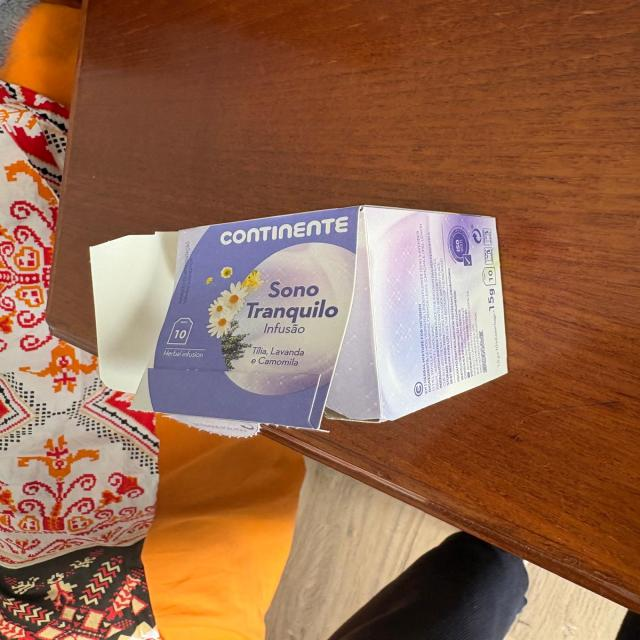damaged_package: (89, 205, 508, 438)
